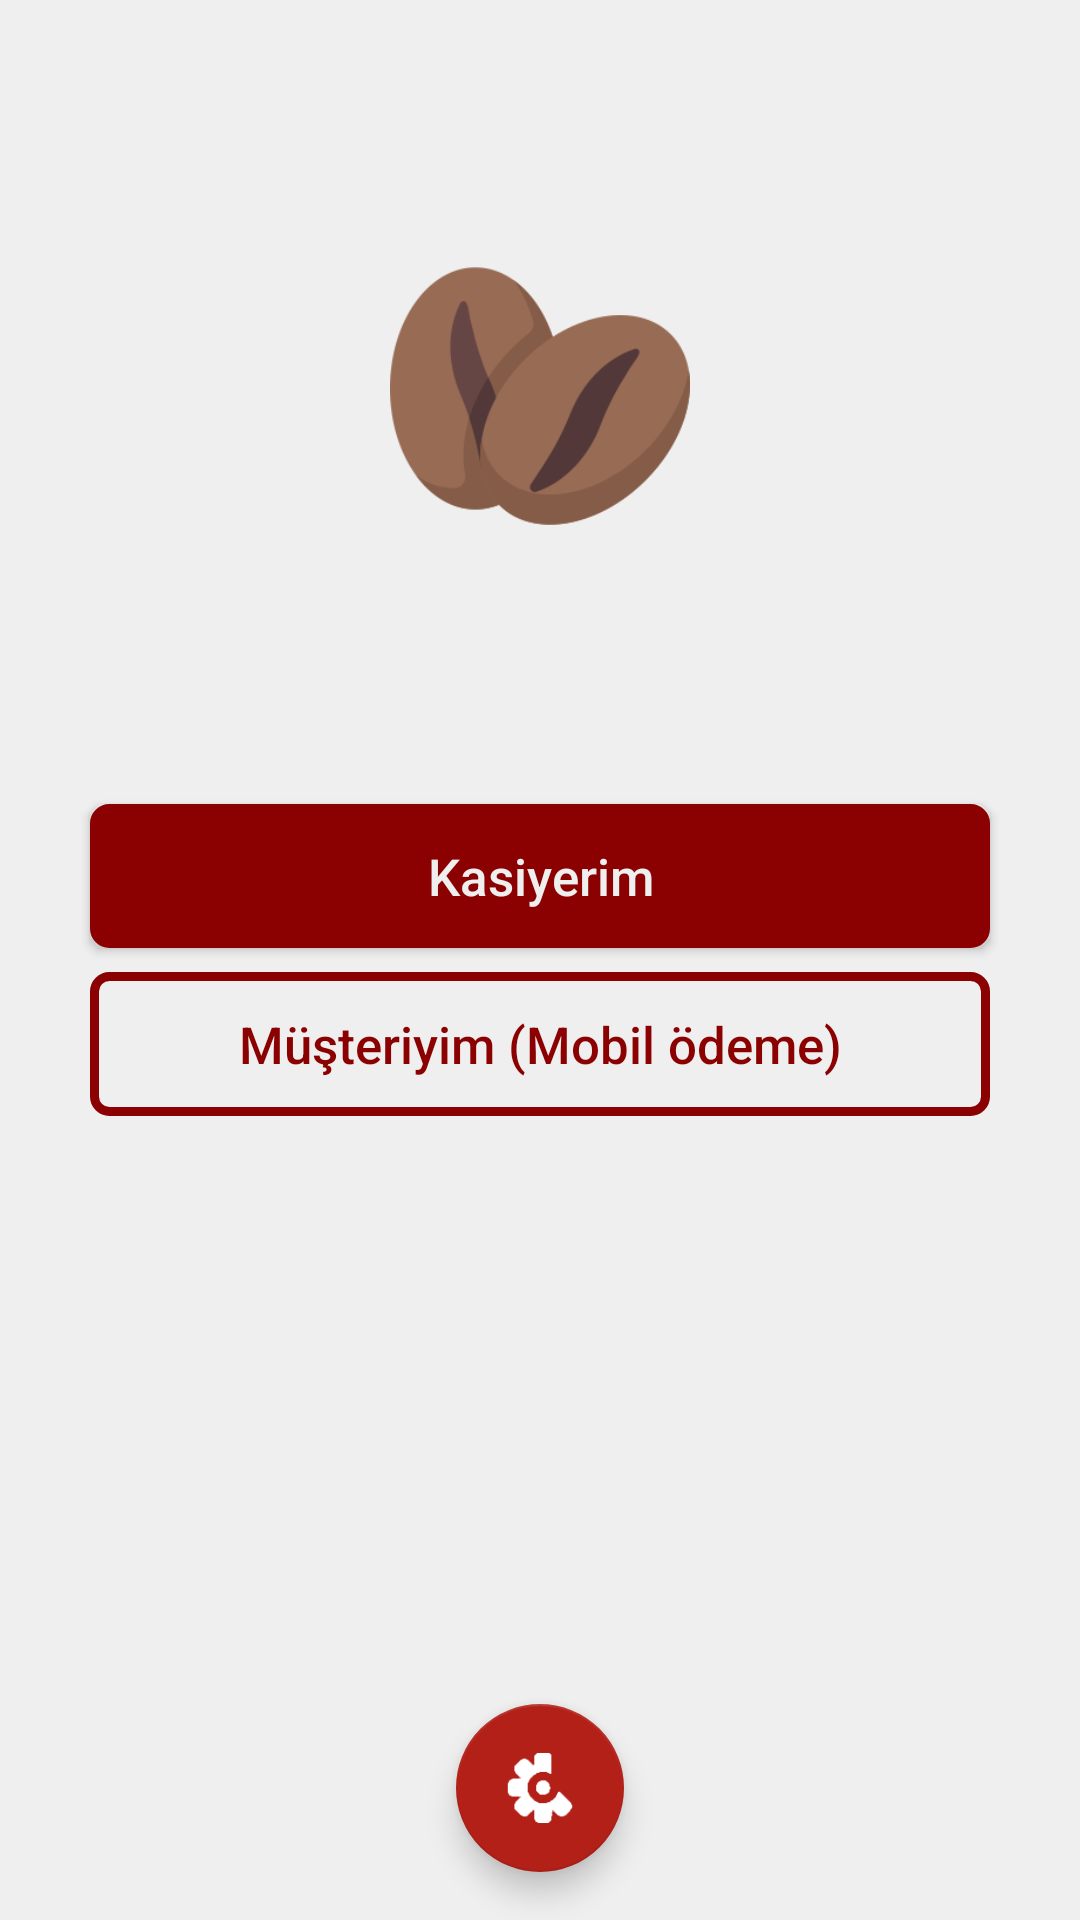

Icon bounding boxes for this 1080×1920 phone screenshot, format (x1,y1,x2,y2):
coffee beans: (390,267,690,525)
crash: (456,1704,624,1872)
